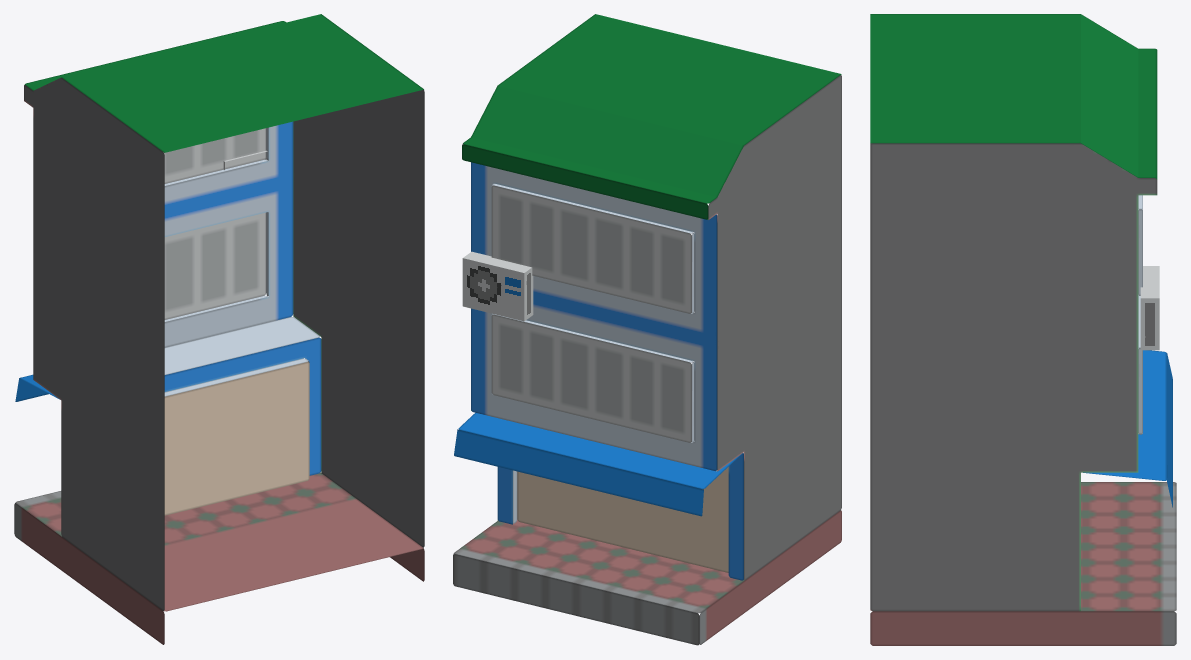
File: House 8.fbx
The picture shows the model from 3 angles, left to right: view 1: azimuth 30°, elevation 25°; view 2: azimuth 150°, elevation 25°; view 3: azimuth 270°, elevation 25°; orthographic projection. The views are drawn at different scales.
Parts seen in each view (by area): view 1: House, SideRoad, plane; view 2: House, SideRoad, plane, AC; view 3: House, SideRoad, plane, AC.
Boxes of the visible parts, x1=… form: House: x1=24, y1=14, x2=424, y2=610; SideRoad: x1=14, y1=472, x2=424, y2=644; plane: x1=15, y1=374, x2=59, y2=401; House: x1=462, y1=14, x2=841, y2=580; SideRoad: x1=453, y1=510, x2=841, y2=645; plane: x1=454, y1=412, x2=742, y2=516; AC: x1=462, y1=251, x2=533, y2=321; House: x1=870, y1=14, x2=1157, y2=611; SideRoad: x1=870, y1=482, x2=1176, y2=645; plane: x1=1083, y1=350, x2=1172, y2=507; AC: x1=1140, y1=266, x2=1159, y2=350.
Size of the model in its own units: 202 by 362 by 200.
3 materials, 3 textured.
